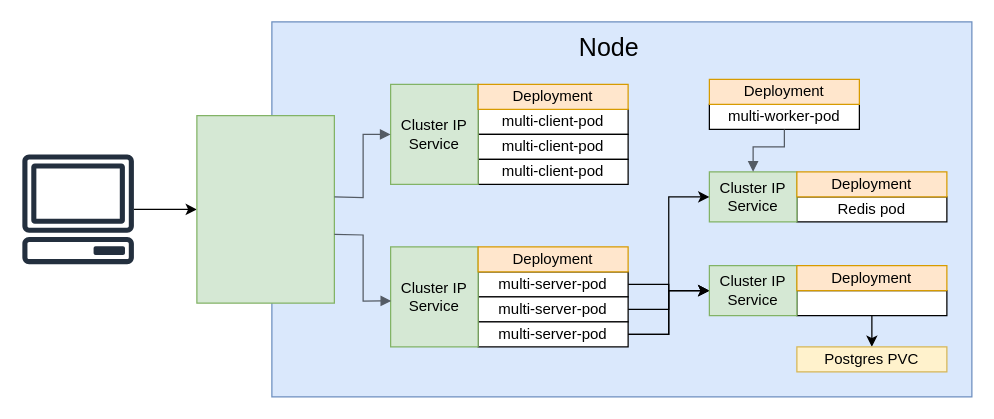
Some shapes in this 994 by 419 pixel diagram are drawn without their labels. Here are the shapes that lost their labels. From the top down, the centre of each, then its label:
At point 265,208: "Ingress Nginx Service".
At point 871,302: "Postgres pod".
